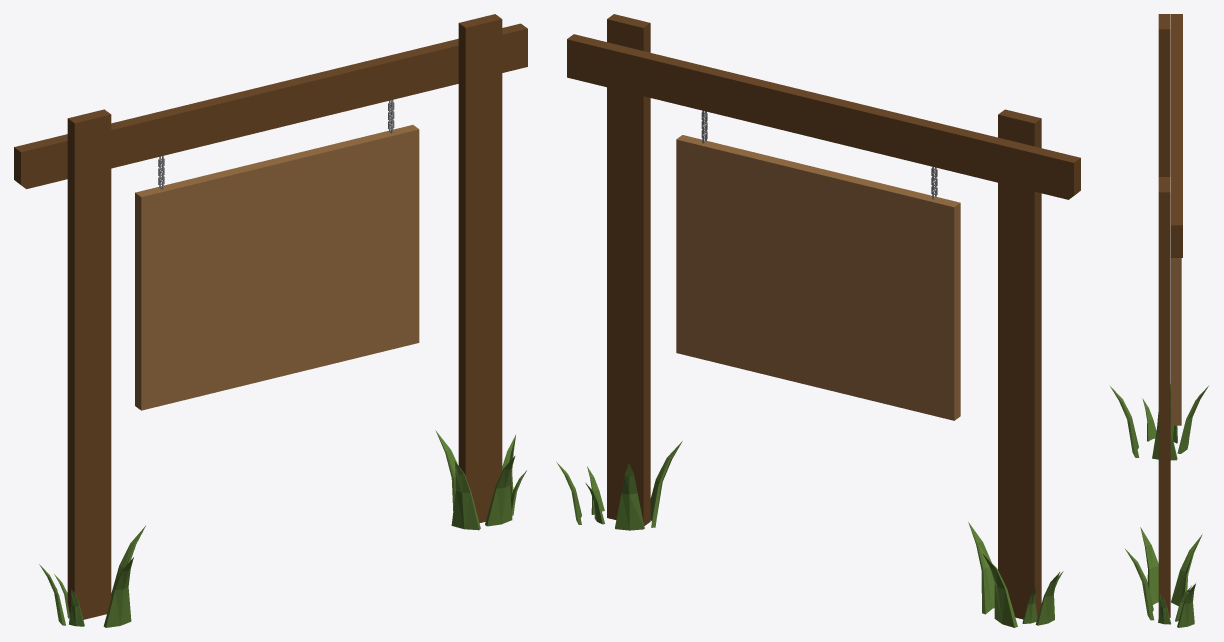
File: Wooden_Sign.glb
3 renders of one model, left to right at view 1: azimuth 30°, elevation 25°; view 2: azimuth 150°, elevation 25°; view 3: azimuth 270°, elevation 25°, orthographic. The views are drawn at different scales.
Visible parts, largest first — view 1: Wooden_Sign_Merged; view 2: Wooden_Sign_Merged; view 3: Wooden_Sign_Merged.
Boxes of the visible parts, left/top/right/bottom form: Wooden_Sign_Merged: left=14, top=14, right=527, bottom=627; Wooden_Sign_Merged: left=556, top=14, right=1080, bottom=627; Wooden_Sign_Merged: left=1110, top=14, right=1208, bottom=627.
Size of the model in its own units: 2.22 by 2.08 by 0.4436.
